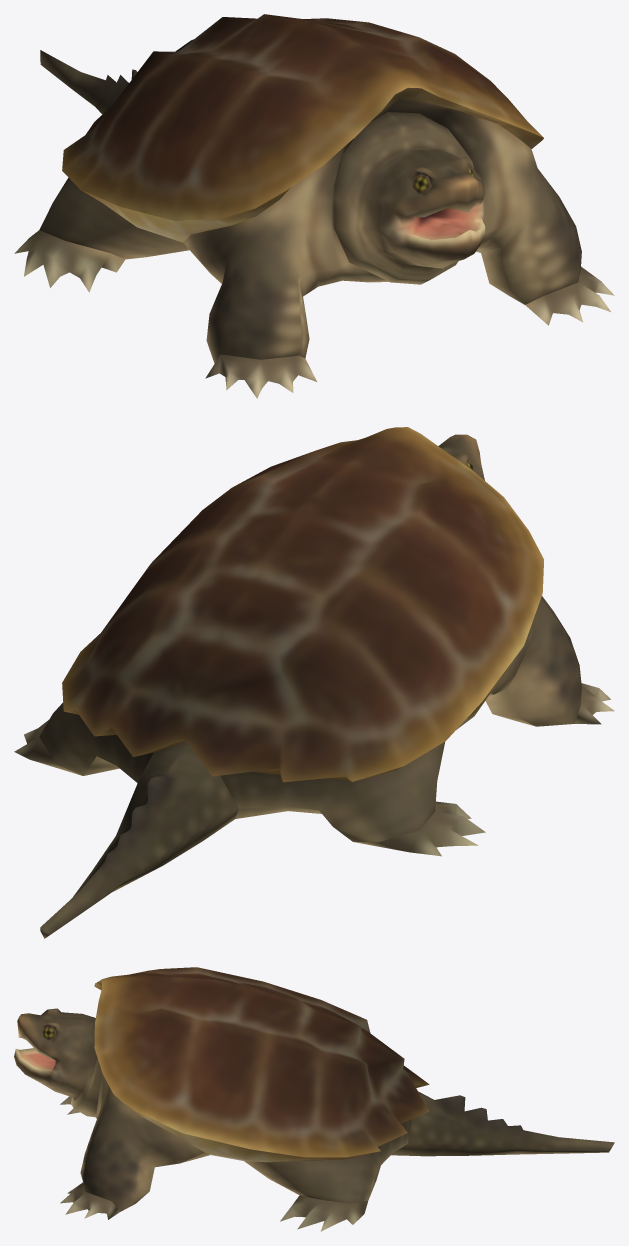
Rendered from snapping-turtle.glb.
The picture shows the model from 3 angles, top to bottom: view 1: azimuth 30°, elevation 25°; view 2: azimuth 150°, elevation 25°; view 3: azimuth 270°, elevation 25°; orthographic projection. The views are drawn at different scales.
Parts seen in each view (by area): view 1: FishKamitsukigame__mKamitsukigame; view 2: FishKamitsukigame__mKamitsukigame; view 3: FishKamitsukigame__mKamitsukigame.
Boxes of the visible parts, box(x1,y1,x2,y2) form: FishKamitsukigame__mKamitsukigame: box(14, 14, 614, 398); FishKamitsukigame__mKamitsukigame: box(14, 427, 614, 938); FishKamitsukigame__mKamitsukigame: box(14, 967, 614, 1231).
Size of the model in its own units: 6.45 by 3.49 by 10.57.
Materials: 1 (1 with a texture image).
